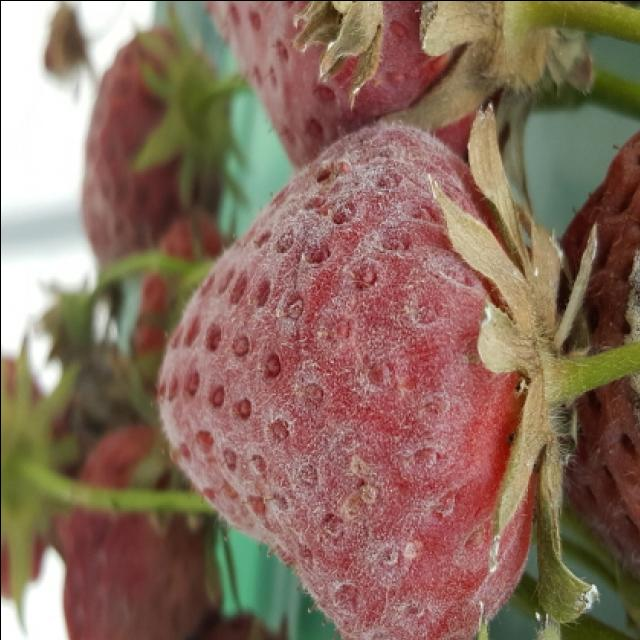Powdery Mildew Fruit: (153, 124, 559, 640), (202, 2, 538, 180), (559, 122, 640, 590)
